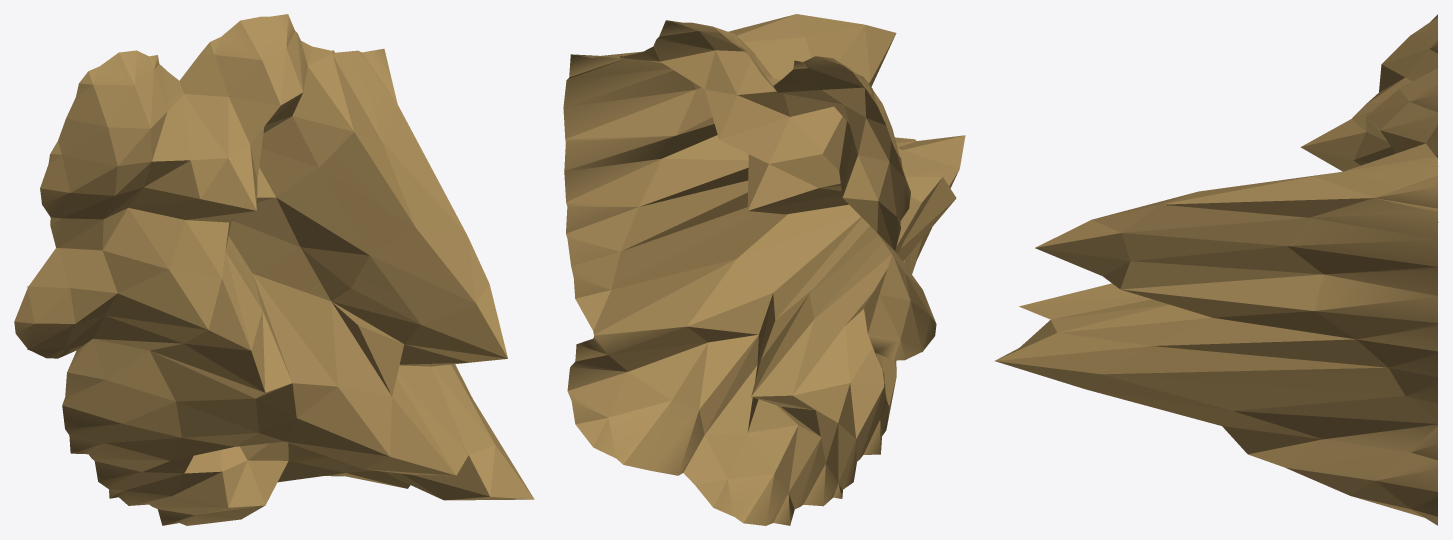
File: Terrain_Floating_Island_Bottom_Dirt_01.fbx
3 views of the same model, side by side, from view 1: azimuth 30°, elevation 25°; view 2: azimuth 150°, elevation 25°; view 3: azimuth 270°, elevation 25° (orthographic). The views are drawn at different scales.
Visible parts, largest first — view 1: Terrain_Floating_Island_Bottom_Dirt_01; view 2: Terrain_Floating_Island_Bottom_Dirt_01; view 3: Terrain_Floating_Island_Bottom_Dirt_01.
Part boxes in pixels (<box>): Terrain_Floating_Island_Bottom_Dirt_01: <box>14,14,534,525</box>; Terrain_Floating_Island_Bottom_Dirt_01: <box>563,14,965,525</box>; Terrain_Floating_Island_Bottom_Dirt_01: <box>995,14,1438,525</box>.
Size of the model in its own units: 9475 by 11876 by 10852.
